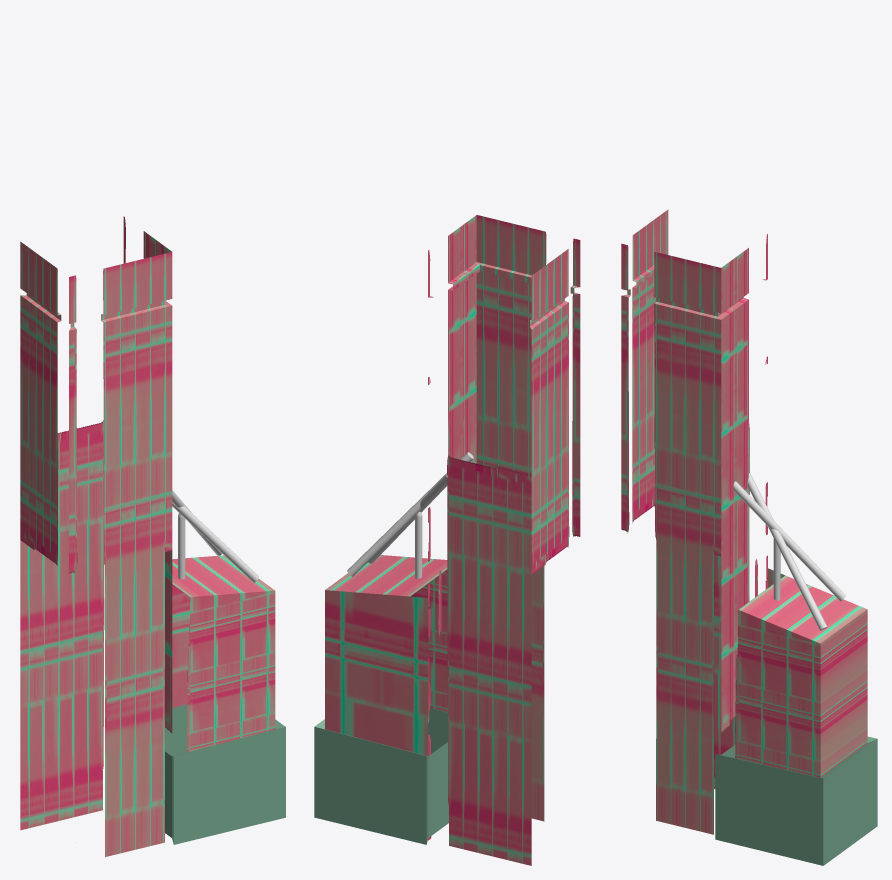
File: Tallest Skyscraper.fbx
The picture shows the model from 3 angles, left to right: view 1: azimuth 30°, elevation 25°; view 2: azimuth 150°, elevation 25°; view 3: azimuth 330°, elevation 25°; orthographic projection. The views are drawn at different scales.
Parts seen in each view (by area): view 1: Section of Tall Skyscraper; view 2: Section of Tall Skyscraper; view 3: Section of Tall Skyscraper.
Part boxes in pixels (bbox=[...]): Section of Tall Skyscraper: bbox=[20, 216, 285, 856]; Section of Tall Skyscraper: bbox=[314, 215, 580, 865]; Section of Tall Skyscraper: bbox=[621, 209, 877, 865].
Size of the model in its own units: 4883 by 17620 by 2188.
